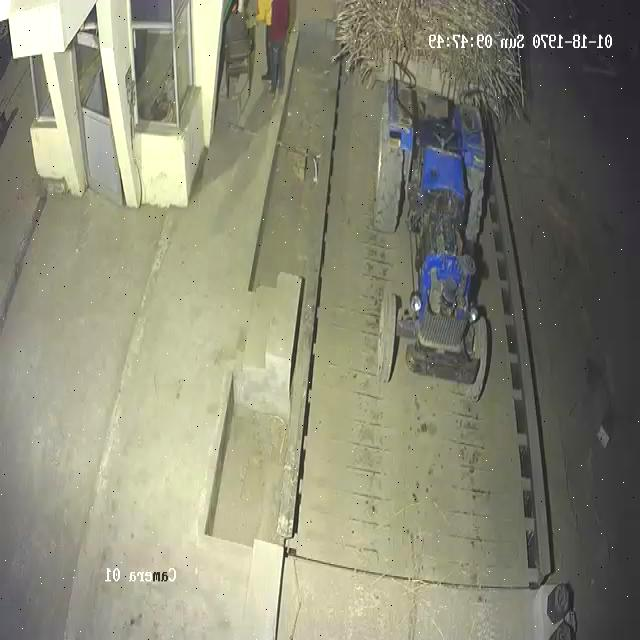Tratores - v5 YOLO V8L 2024-11-13: (369, 84, 487, 395)
